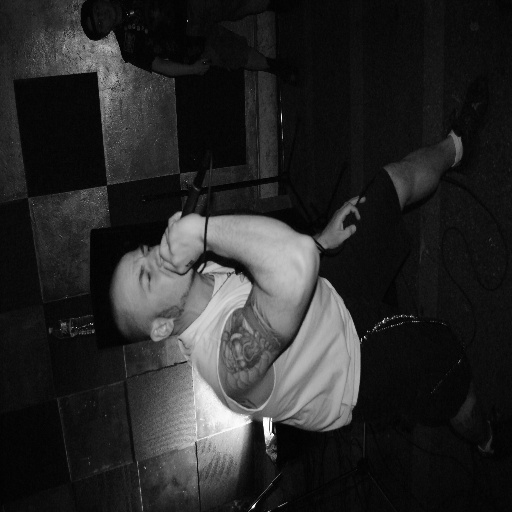hand: (157, 209, 203, 276), (322, 194, 366, 248), (193, 57, 210, 78)
